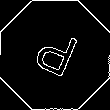P_SW: (28, 25, 82, 85)
